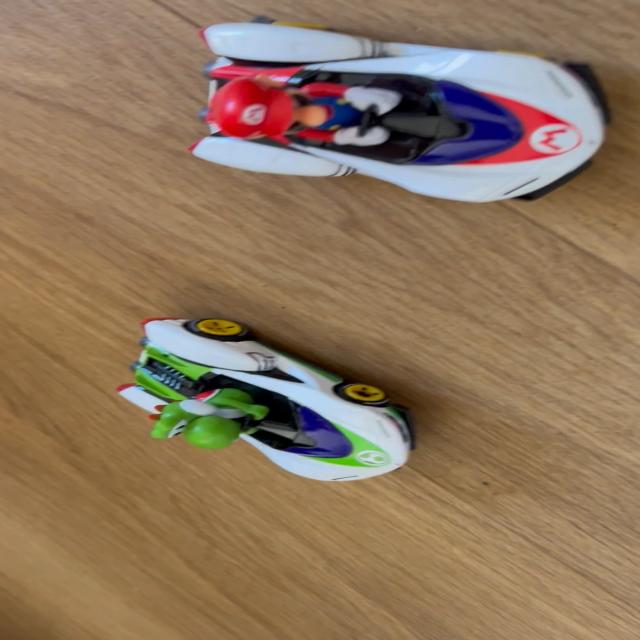mario: (179, 11, 636, 207)
yoshi: (109, 323, 436, 494)
